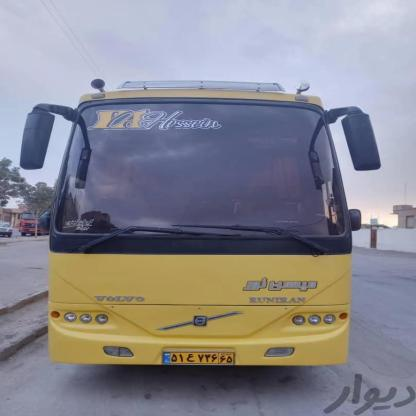Bus: (10, 55, 390, 384)
